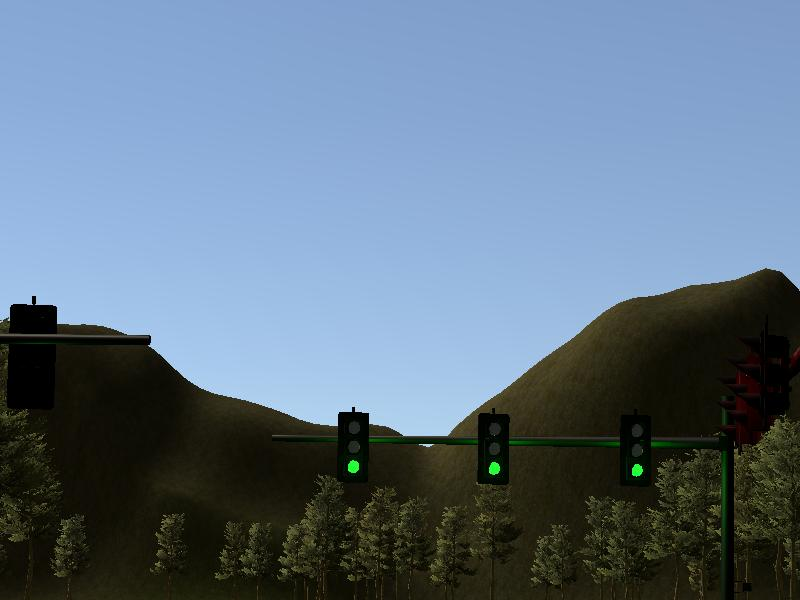Green: (337, 412, 367, 481), (480, 416, 508, 483), (623, 418, 650, 483)
